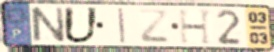2: (214, 8, 246, 47)
H: (177, 8, 214, 46)
I: (117, 7, 128, 45)
N: (28, 5, 68, 44)
U: (62, 5, 101, 45)
Z: (137, 8, 171, 45)
